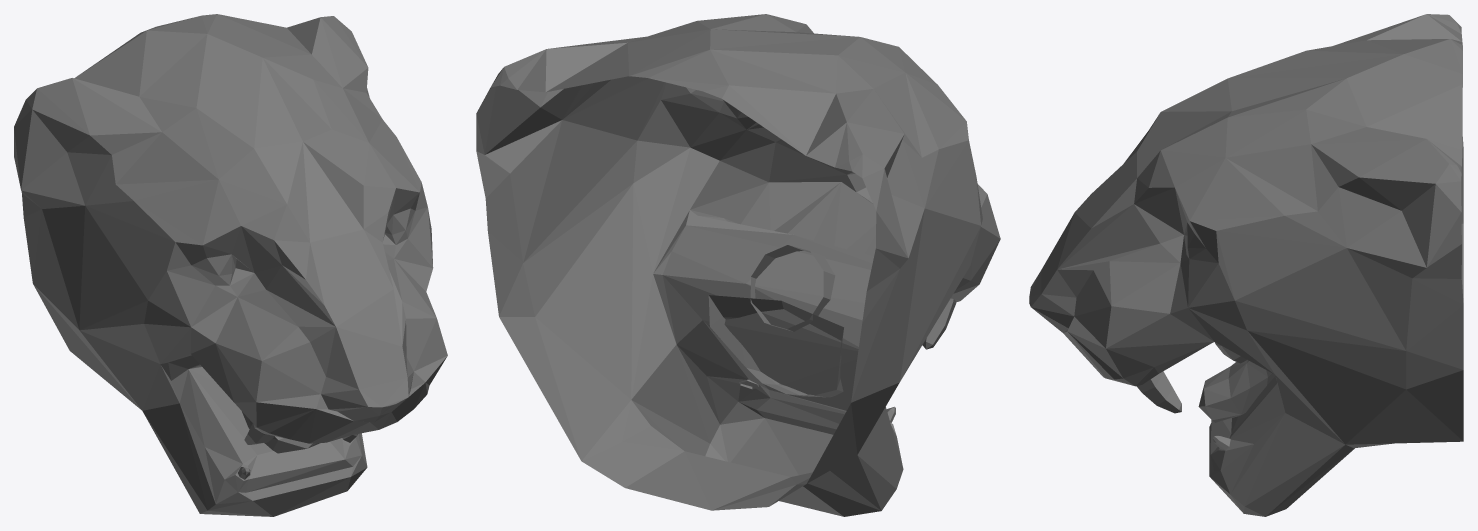
The model's file is PumaHeadTrapStone.fbx.
3 renders of one model, left to right at view 1: azimuth 30°, elevation 25°; view 2: azimuth 150°, elevation 25°; view 3: azimuth 270°, elevation 25°, orthographic. The views are drawn at different scales.
Visible parts, largest first — view 1: PumaHeadTrapStone; view 2: PumaHeadTrapStone; view 3: PumaHeadTrapStone.
Part boxes in pixels (left/top/right/bottom): PumaHeadTrapStone: left=14, top=14, right=447, bottom=516; PumaHeadTrapStone: left=476, top=14, right=1000, bottom=516; PumaHeadTrapStone: left=1029, top=14, right=1463, bottom=516.
Size of the model in its own units: 38.48 by 44.61 by 40.05.
